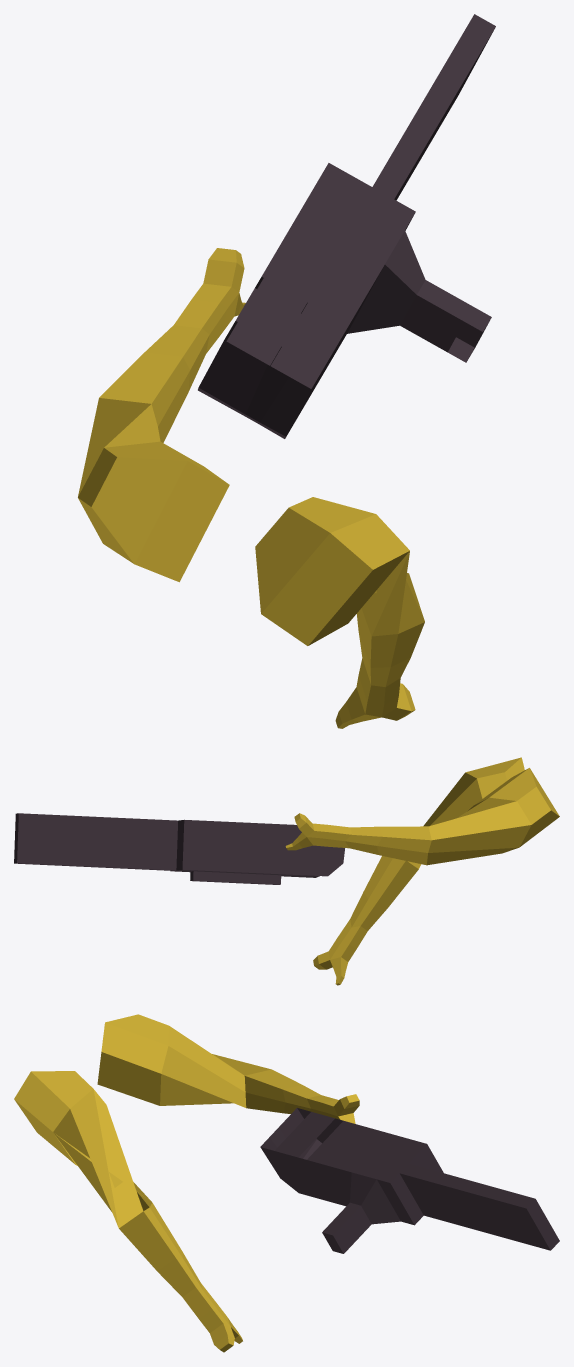
File: arme_000230.obj
3 views of the same model, one above another, from view 1: azimuth 30°, elevation 25°; view 2: azimuth 150°, elevation 25°; view 3: azimuth 270°, elevation 25° (orthographic). The views are drawn at different scales.
Parts seen in each view (by area): view 1: Cube.048_Cube.024, Cube.046_Cube.010; view 2: Cube.048_Cube.024, Cube.046_Cube.010; view 3: Cube.048_Cube.024, Cube.046_Cube.010.
Boxes of the visible parts, left/top/right/bottom form: Cube.048_Cube.024: left=78, top=248, right=424, bottom=728; Cube.046_Cube.010: left=198, top=14, right=495, bottom=438; Cube.048_Cube.024: left=285, top=757, right=559, bottom=985; Cube.046_Cube.010: left=14, top=813, right=344, bottom=884; Cube.048_Cube.024: left=14, top=1014, right=359, bottom=1352; Cube.046_Cube.010: left=260, top=1108, right=559, bottom=1253.
Bounding box in the file's own units: 1876 × 1059 × 2052.
